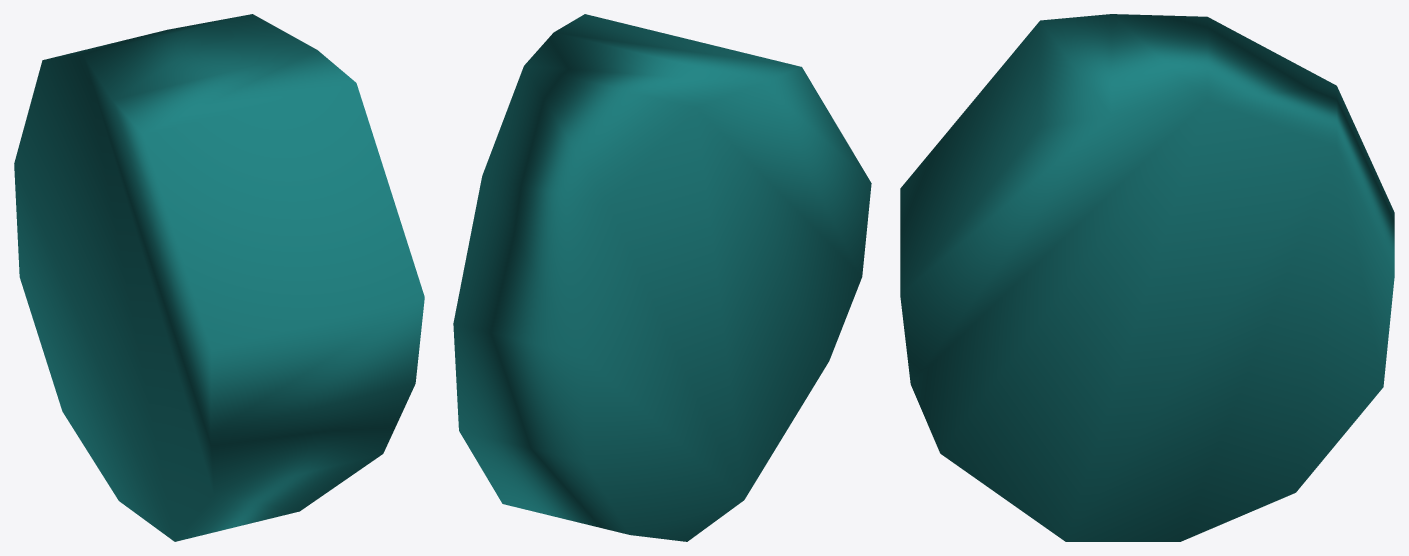
Rendered from fitness_tracker_collider.fbx.
3 renders of one model, left to right at view 1: azimuth 30°, elevation 25°; view 2: azimuth 150°, elevation 25°; view 3: azimuth 270°, elevation 25°, orthographic. The views are drawn at different scales.
Parts seen in each view (by area): view 1: fitness_tracker_collider; view 2: fitness_tracker_collider; view 3: fitness_tracker_collider.
Part boxes in pixels (<box>): fitness_tracker_collider: <box>14,14,424,541</box>; fitness_tracker_collider: <box>453,14,871,541</box>; fitness_tracker_collider: <box>900,14,1394,541</box>.
Bounding box in the file's own units: 3.55 × 7.02 × 6.97.
